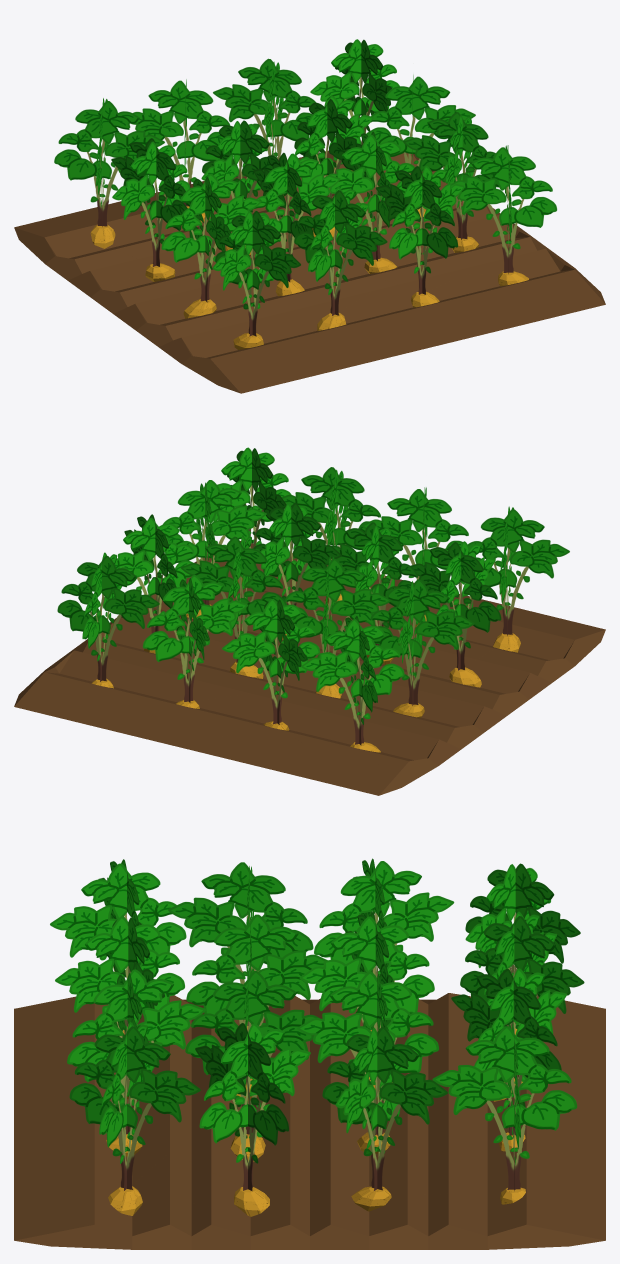
File: potato-stage3-w-Dirt.glb
The picture shows the model from 3 angles, top to bottom: view 1: azimuth 30°, elevation 25°; view 2: azimuth 150°, elevation 25°; view 3: azimuth 270°, elevation 25°; orthographic projection. The views are drawn at different scales.
Visible parts, largest first — view 1: Potatoe_F3, Soil.010; view 2: Potatoe_F3, Soil.010; view 3: Potatoe_F3, Soil.010.
Part boxes in pixels (x1,y1,x2,y2): Potatoe_F3: [54, 39, 557, 349]; Soil.010: [14, 150, 605, 393]; Potatoe_F3: [57, 447, 569, 752]; Soil.010: [14, 541, 605, 795]; Potatoe_F3: [50, 858, 584, 1216]; Soil.010: [14, 993, 605, 1249].
Size of the model in its own units: 2.5 by 0.844 by 2.5.
2 materials, 1 textured.
